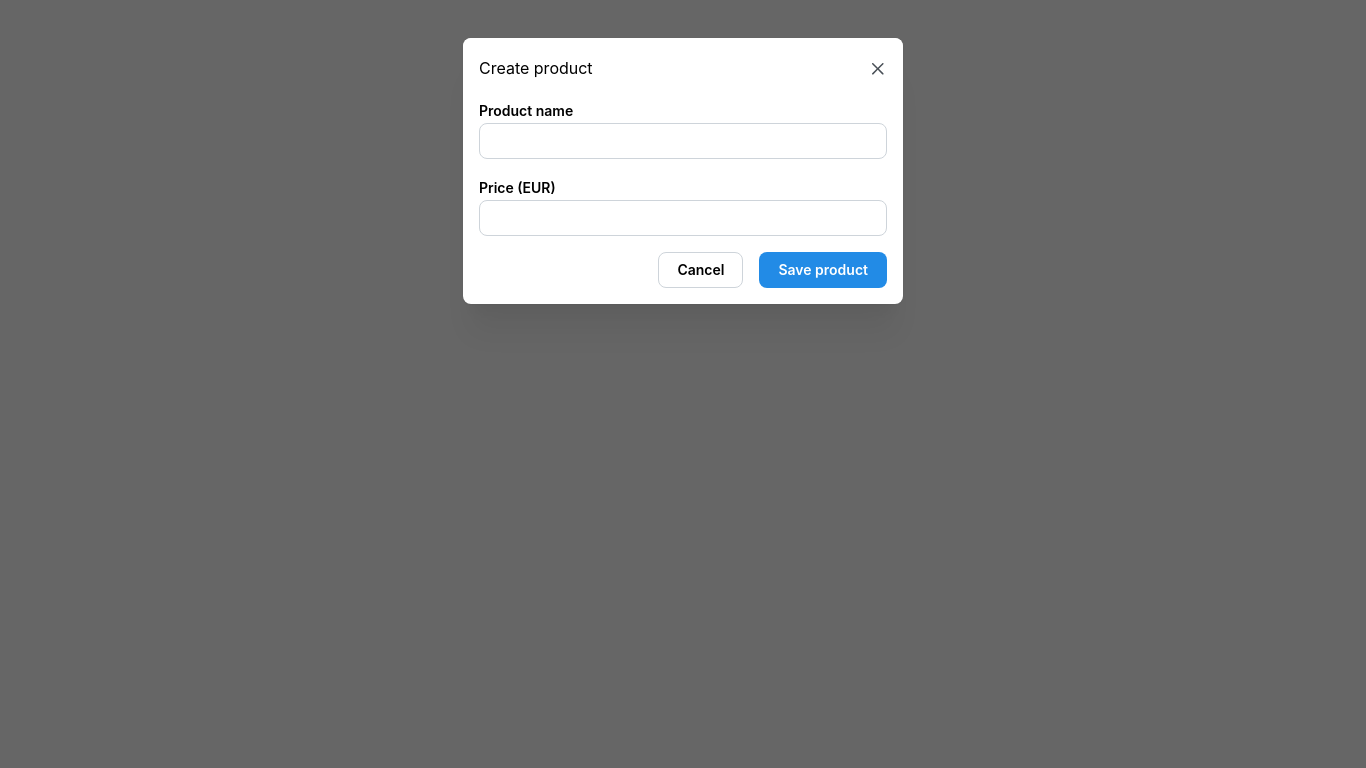
Test case: product writes › retains create form on server rejection without replay
Step 1. Type "Edited name" into the field labelled "Product name" → (683, 141), box [479, 123, 887, 159]
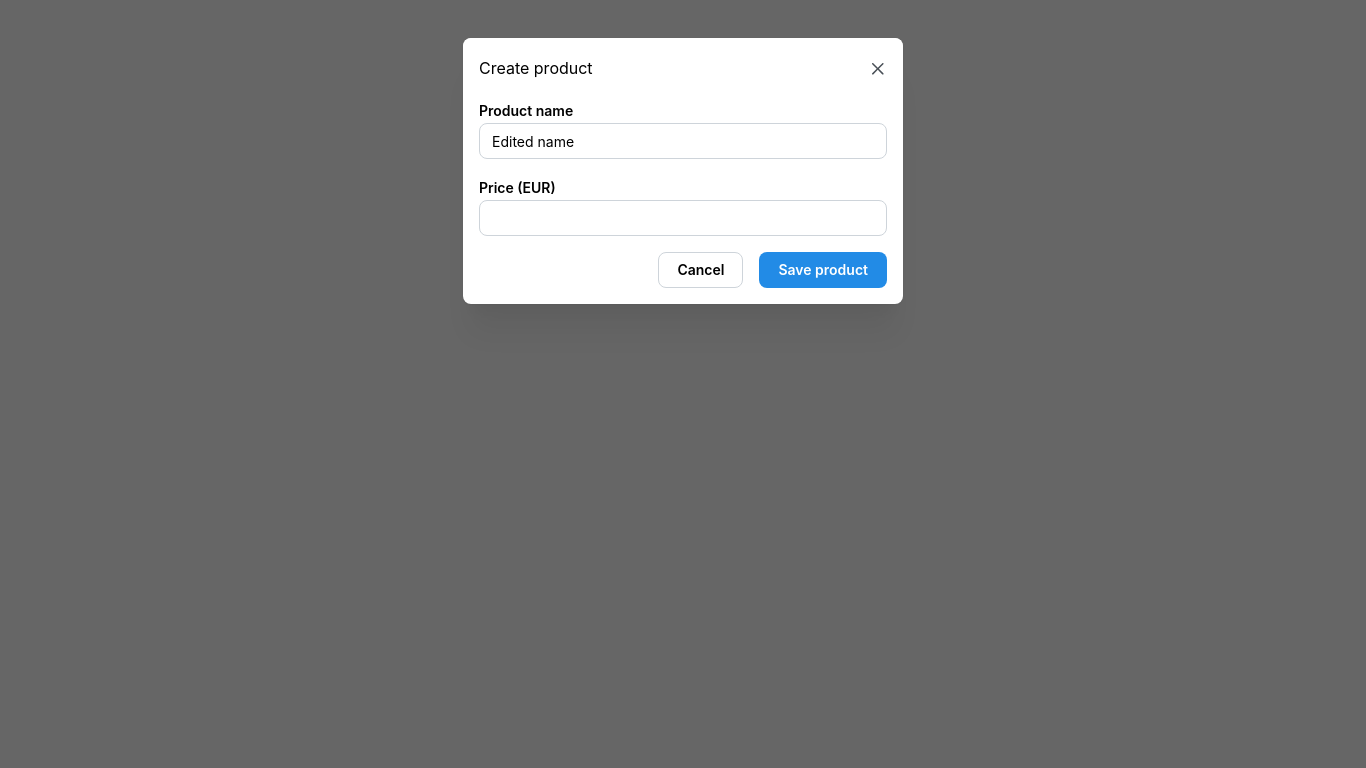
Step 2. Type "15.25" into the field labelled "Price (EUR)" → (683, 218), box [479, 200, 887, 236]
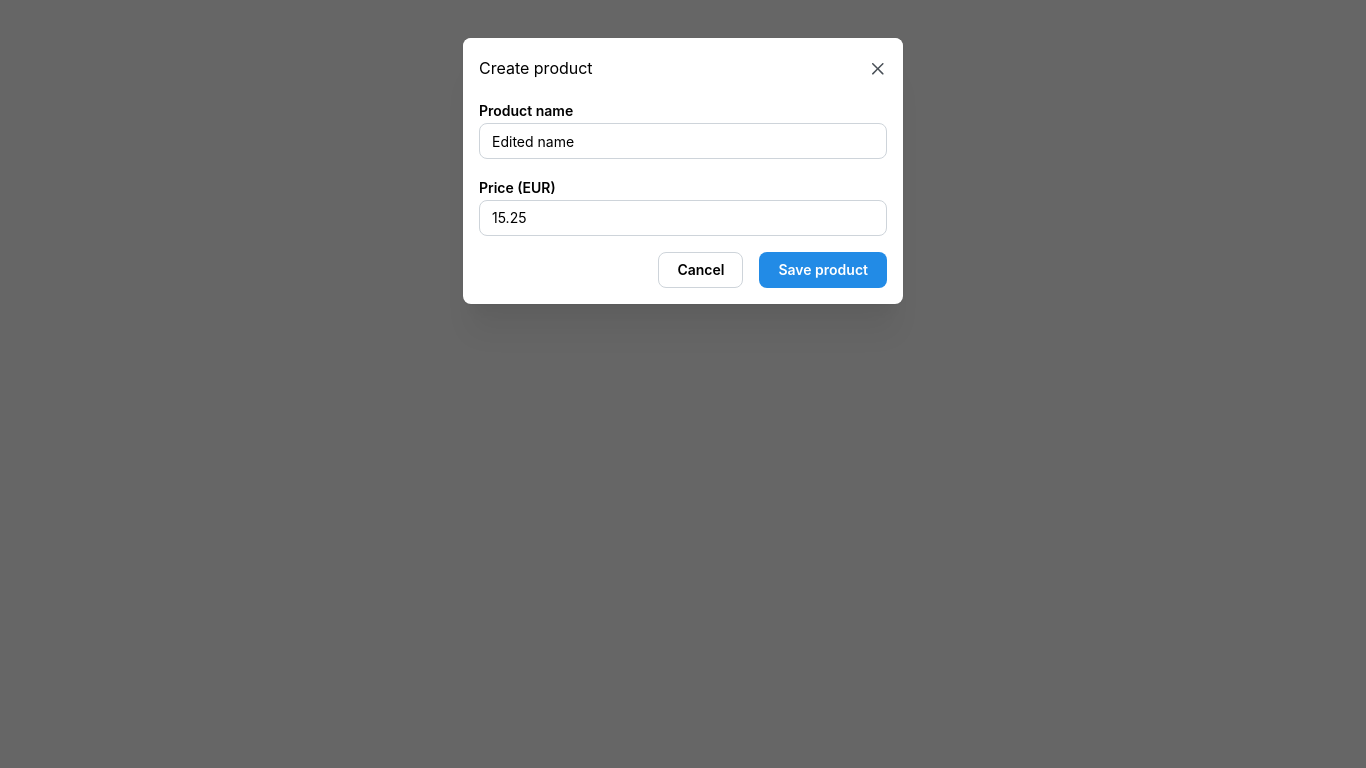
Step 3. Click the button "Save product" → (823, 270), box [759, 252, 887, 288]
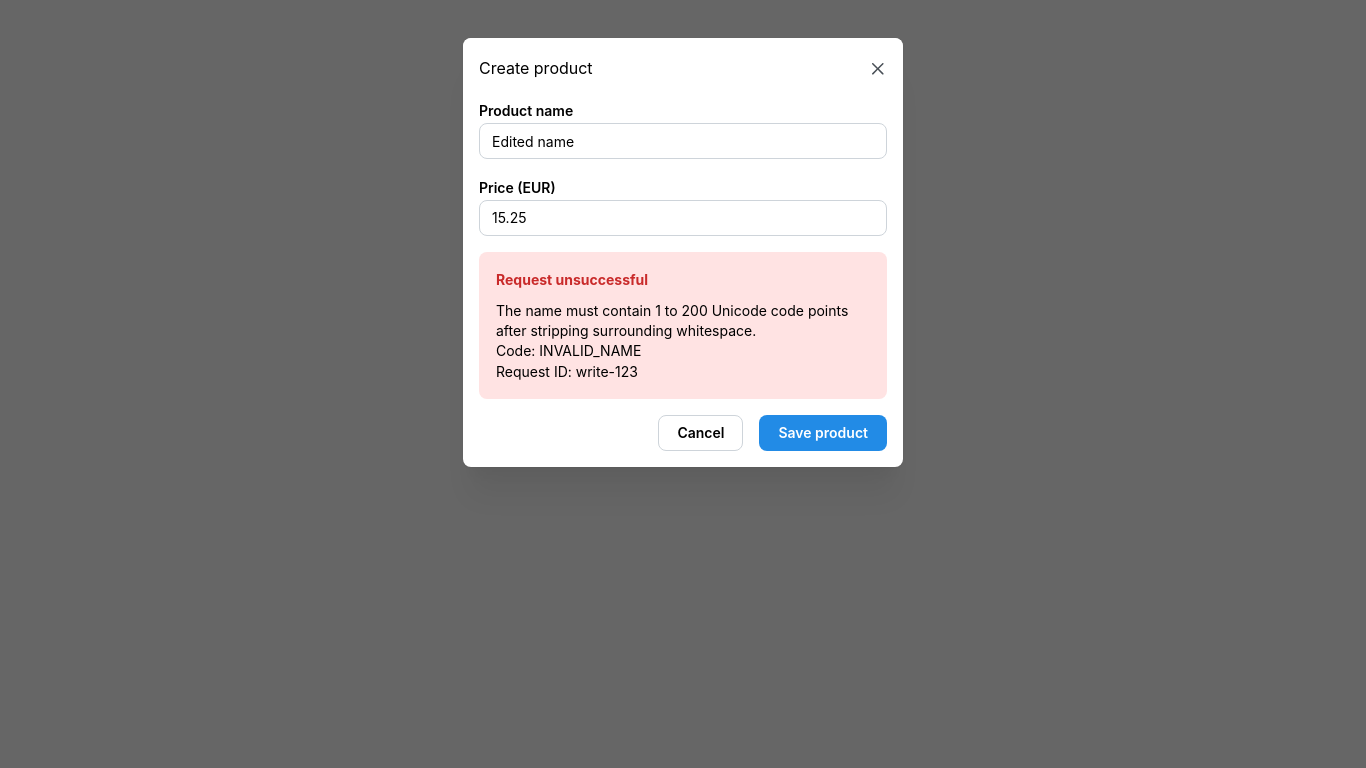
Now the message shows "The name must contain 1 to 200 Unicode code points after stripping surrounding whitespace.", box [496, 302, 848, 339]
Now the message shows "INVALID_NAME", box [539, 342, 641, 359]
Now the message shows "write-123", box [576, 363, 638, 380]
